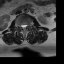CCS_normal: (23, 21, 24, 32)
LFS_stenosis: (27, 21, 29, 28)
LLS_normal: (24, 21, 27, 31)
RFS_severe_stenosis: (19, 22, 20, 29)
RLS_normal: (20, 22, 23, 30)
